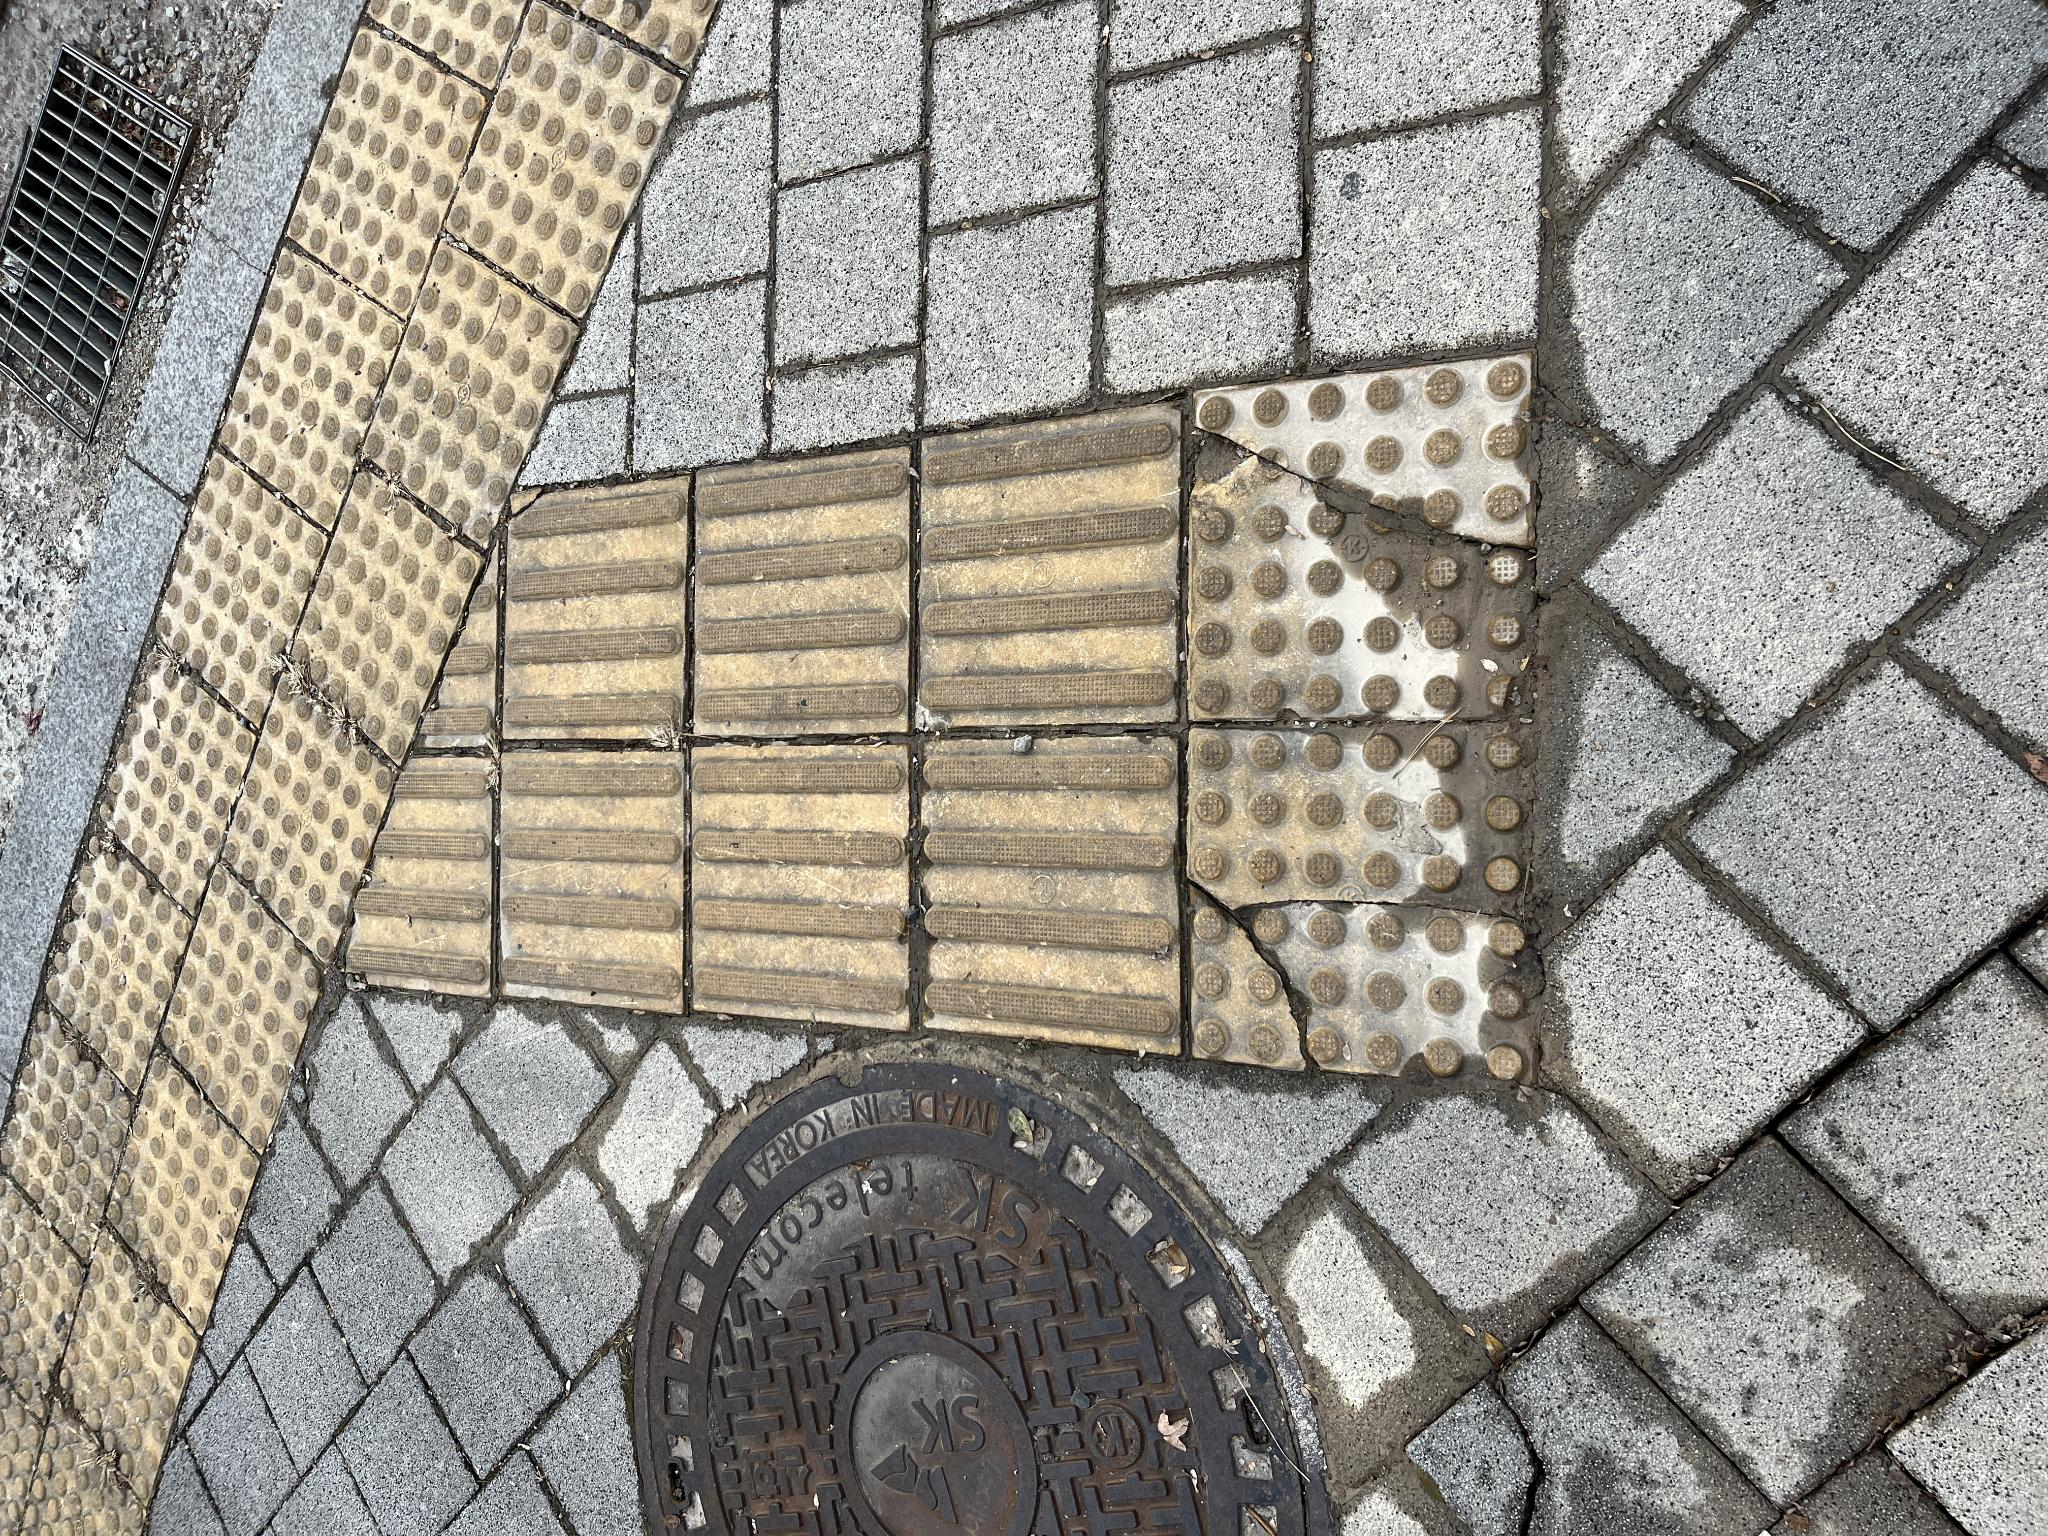Stop block broken: (818, 1191, 1180, 1530), (456, 1191, 808, 1534)
Stop block normal: (1003, 218, 1288, 403), (571, 221, 863, 397), (202, 105, 485, 258)
Straight block normal: (508, 694, 789, 908)
